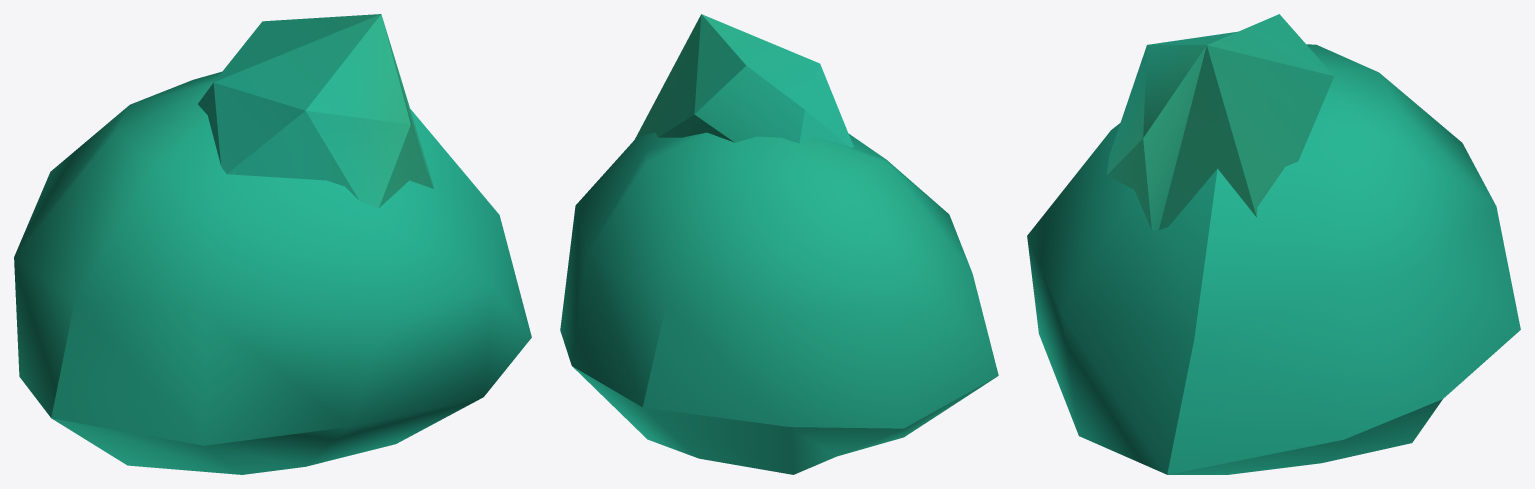
The model's file is tree1.fbx.
3 renders of one model, left to right at view 1: azimuth 30°, elevation 25°; view 2: azimuth 150°, elevation 25°; view 3: azimuth 270°, elevation 25°, orthographic. The views are drawn at different scales.
Visible parts, largest first — view 1: tree1; view 2: tree1; view 3: tree1.
Boxes of the visible parts, x1=… form: tree1: x1=14, y1=14, x2=531, y2=474; tree1: x1=560, y1=14, x2=998, y2=474; tree1: x1=1027, y1=14, x2=1520, y2=474.
Size of the model in its own units: 165 by 138 by 144.
